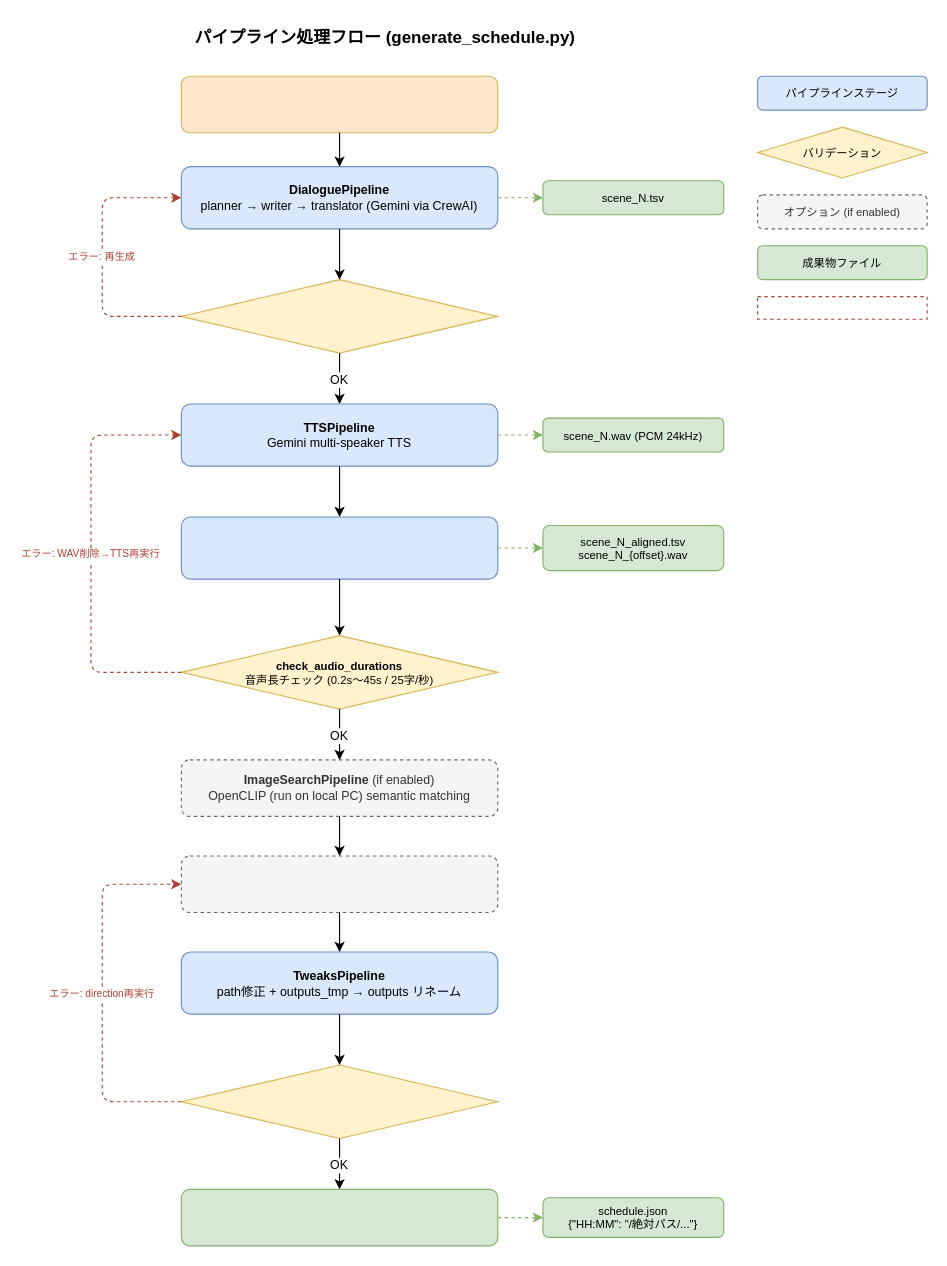
The diagram is 947 pixels wide and 1266 high, and some of its shapes have lost their labels. Each missing label, with the centre of its shape:
"AlignmentPipeline ElevenLabs Forced Alignment + split WAV" goes at pixel 339 547.
"check_direction_tags (if enabled) 無効タグチェック" goes at pixel 339 1101.
"check_line_counts line_en 空欄チェック" goes at pixel 339 316.
"DirectionPipeline (if enabled) Gemini via CrewAI 演出家 agent" goes at pixel 339 883.
"outputs/timestamp_locale/ scene_N_aligned.tsv (最終 11/12列)" goes at pixel 339 1217.
"エラー時リトライ" goes at pixel 842 307.
"入力ファイル prompt_example.txt + app_config.toml" goes at pixel 339 104.
